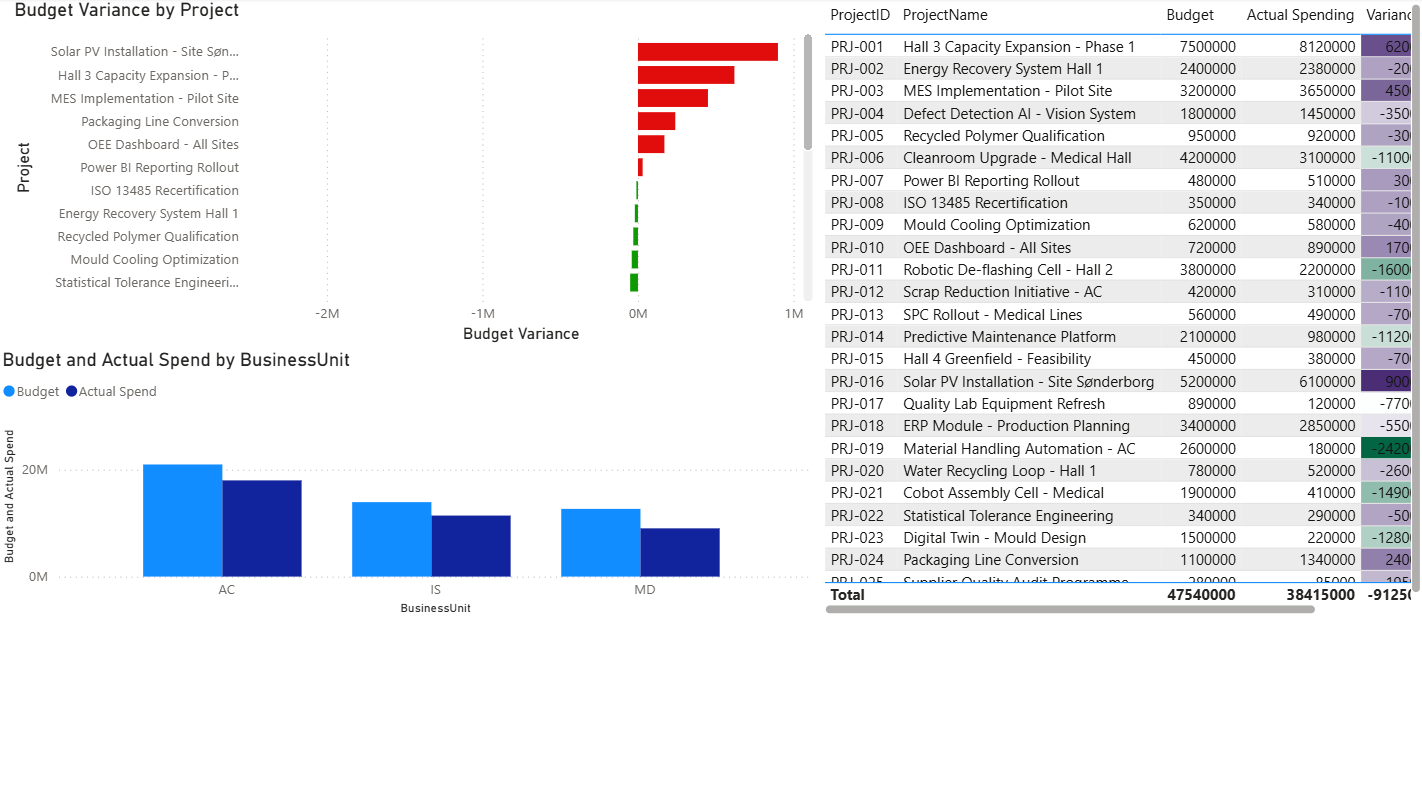

The page's visual inventory and layout, read from the dashboard file:
{"tool":"powerbi","page":{"name":"Page 3","canvas":[1280,720],"ordinal":2},"visuals":[{"type":"clusteredBarChart","fields":{"Category":["projects.ProjectName"],"Y":["Sum(projects.Variance DKK)"]},"box":[10.4,0,724.5,313.6],"z":0},{"type":"clusteredColumnChart","fields":{"Category":["projects.BusinessUnit"],"Y":["Sum(projects.BudgetDKK)","Sum(projects.ActualSpendDKK)"]},"box":[0,313.6,734.9,243.7],"z":1},{"type":"tableEx","fields":{"Values":["projects.ProjectID","projects.ProjectName","Sum(projects.BudgetDKK)","Sum(projects.ActualSpendDKK)","Sum(projects.Variance DKK)","projects.Status"]},"box":[734.9,0,545.1,557.3],"z":2}]}

Visuals, with their boxes in screenshot pixels (x1, y1, x2, y2), scaled from the page's 1280x720 canvas onto the 1422x798 screenshot:
clusteredBarChart - projects.ProjectName x Sum(projects.Variance DKK): pyautogui.locateOnScreen(12, 0, 816, 348)
clusteredColumnChart - projects.BusinessUnit x Sum(projects.BudgetDKK): pyautogui.locateOnScreen(0, 348, 816, 618)
tableEx - projects.ProjectID x projects.ProjectName: pyautogui.locateOnScreen(816, 0, 1421, 618)
